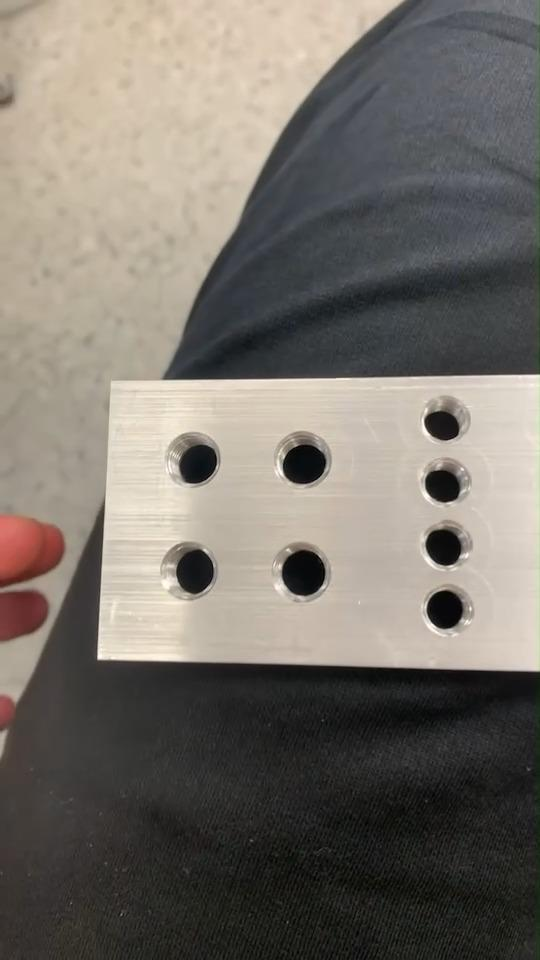hole: (270, 536, 336, 606), (270, 426, 336, 492), (156, 538, 219, 602), (418, 582, 483, 644), (162, 430, 222, 489), (418, 517, 473, 570), (417, 457, 474, 507), (417, 393, 472, 444)
